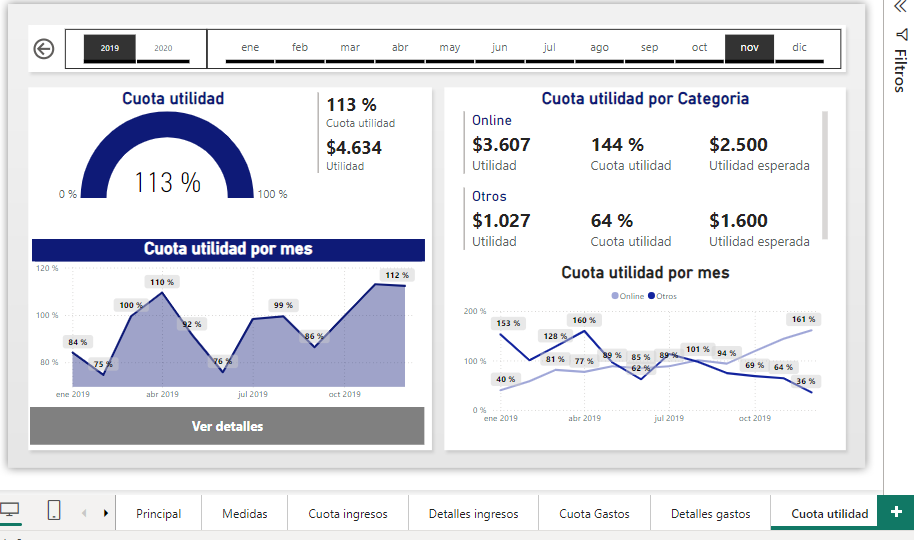

Layout of this report page (visuals, bound fields, positions):
{"tool":"powerbi","page":{"name":"Cuota utilidad","canvas":[1280,720],"ordinal":6},"visuals":[{"type":"slicer","fields":{"Values":["Calendarios 20192020.Fecha.Variación.Jerarquía de fechas.Año"]},"box":[110.6,59.5,202.7,56.7],"z":0},{"type":"slicer","fields":{"Values":["Calendarios 20192020.Primeros caracteres"]},"box":[313.2,59.5,907.1,56.7],"z":1000},{"type":"gauge","fields":{"Y":["Expectativas.Cuota utilidad"]},"box":[62.4,146,403.9,165.8],"z":2000},{"type":"multiRowCard","fields":{"Values":["Expectativas.Cuota utilidad","Finanzas.Utilidad"]},"box":[466.3,146,161.6,155.9],"z":3000},{"type":"multiRowCard","title":"Cuota utilidad por Categoria ","fields":{"Values":["Categoria.Cat-Otros","Finanzas.Utilidad","Expectativas.Cuota utilidad","Expectativas.Utilidad esperada"]},"box":[675.3,146.1,530.8,236.9],"z":4000},{"type":"lineChart","title":"Cuota utilidad por mes","fields":{"Category":["Calendarios 20192020.Fecha"],"Y":["Expectativas.Cuota utilidad"]},"box":[63,360.7,561.6,240.5],"z":5000},{"type":"lineChart","title":"Cuota utilidad por mes","fields":{"Category":["Calendarios 20192020.Fecha"],"Series":["Categoria.Cat-Otros"],"Y":["Expectativas.Cuota utilidad"]},"box":[675.3,394.8,530.8,240.2],"z":6000},{"type":"actionButton","box":[59.5,68,41.1,39.7],"z":7000},{"type":"actionButton","title":"Cuota Ingresos","box":[60.1,601.1,564.5,54.2],"z":8000}]}

Visuals, with their boxes on the page's 1280x720 design canvas (x1, y1, x2, y2). These are canvas units, not pixel positions in the 914x540 screenshot, which may show the page scaled, cropped or inside an application window:
slicer - Calendarios 20192020.Fecha.Variación.Jerarquía de fechas.Año: crop(111, 60, 313, 116)
slicer - Calendarios 20192020.Primeros caracteres: crop(313, 60, 1220, 116)
gauge - Expectativas.Cuota utilidad: crop(62, 146, 466, 312)
multiRowCard - Expectativas.Cuota utilidad x Finanzas.Utilidad: crop(466, 146, 628, 302)
"Cuota utilidad por Categoria " multiRowCard: crop(675, 146, 1206, 383)
"Cuota utilidad por mes" lineChart: crop(63, 361, 625, 601)
"Cuota utilidad por mes" lineChart: crop(675, 395, 1206, 635)
actionButton: crop(60, 68, 101, 108)
"Cuota Ingresos" actionButton: crop(60, 601, 625, 655)
